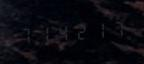four: (54, 21, 71, 44)
one: (35, 22, 52, 45), (90, 18, 107, 41)
seven: (17, 23, 34, 46), (108, 17, 125, 40)
two: (72, 20, 89, 42)
